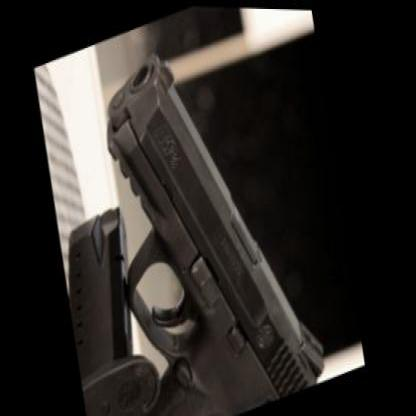pistol: (40, 0, 362, 413)
